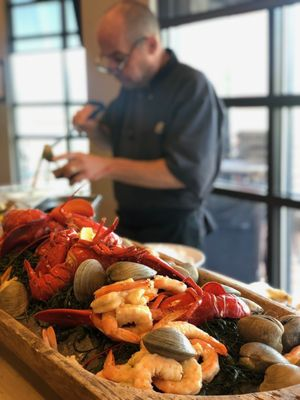pizza: (50, 0, 226, 255)
